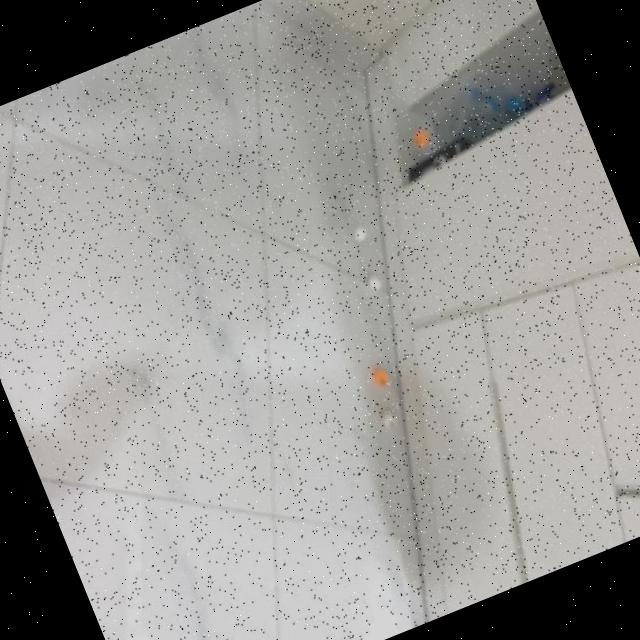ping-pong-ball: (408, 125, 432, 152), (368, 364, 391, 390), (376, 406, 398, 432), (348, 224, 369, 244), (363, 272, 381, 292)
